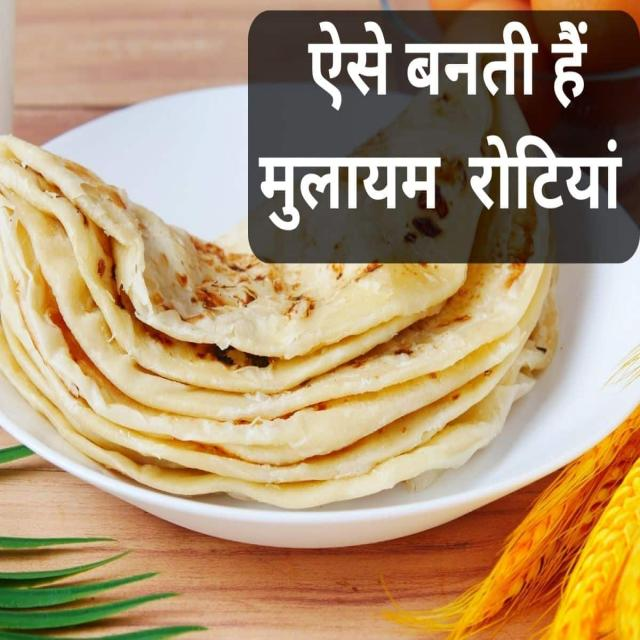ROTI: (2, 59, 557, 507)
